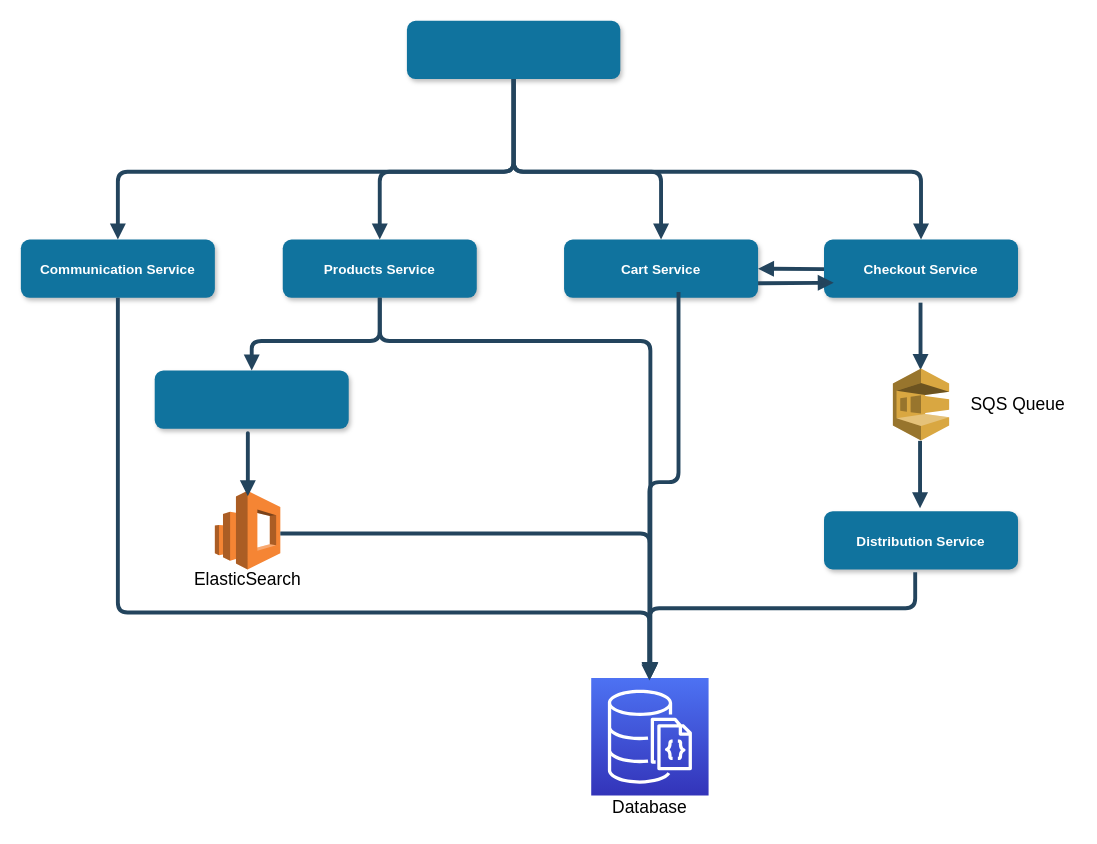
Image size: 1097x844. Some labels were removed from this diagram. Here are the shapes that lost their labels. From the top down, the centre of each, then its label:
At point 514,50: "Client".
At point 252,400: "Query Service".
